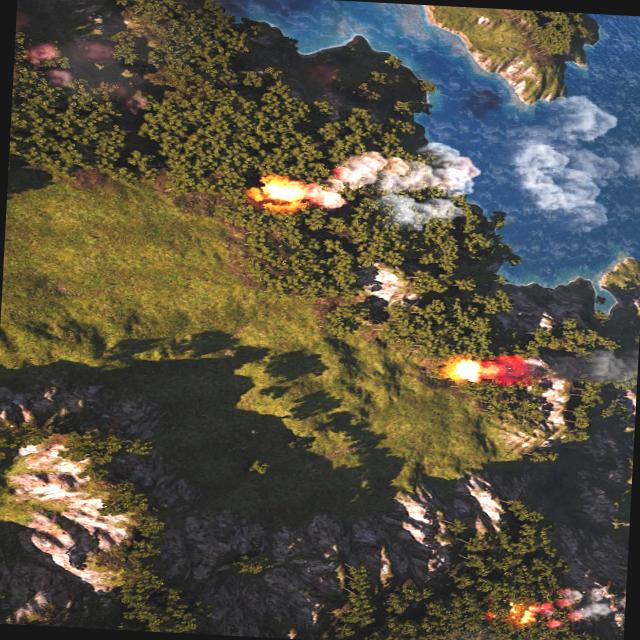fire: (262, 178, 310, 204), (451, 358, 482, 382), (515, 602, 542, 624)
smoke: (502, 91, 640, 233), (313, 137, 482, 236), (497, 338, 639, 390), (541, 580, 625, 628), (27, 42, 59, 64), (44, 68, 75, 88)
